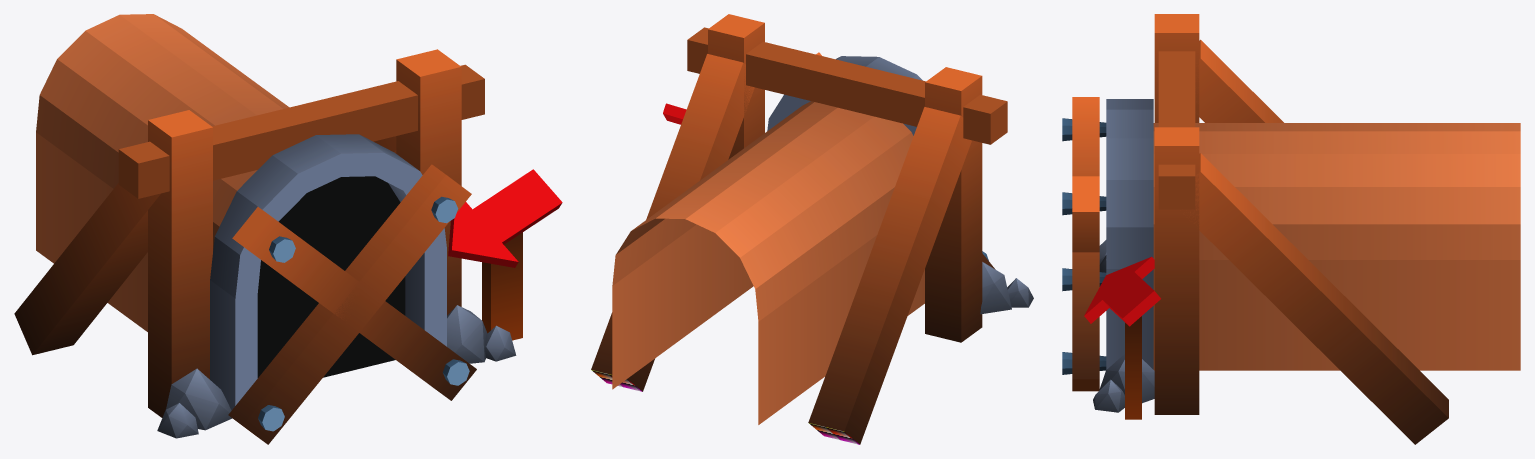
Rendered from Red_2ClosedEntry.fbx.
The picture shows the model from 3 angles, left to right: view 1: azimuth 30°, elevation 25°; view 2: azimuth 150°, elevation 25°; view 3: azimuth 270°, elevation 25°; orthographic projection. The views are drawn at different scales.
Visible parts, largest first — view 1: tunel.013, tunel.014; view 2: tunel.013; view 3: tunel.013, tunel.014.
Boxes of the visible parts, x1,y1,x2,y2 form: tunel.013: (14,14,522,444); tunel.014: (448,169,562,267); tunel.013: (591,14,1033,444); tunel.013: (1062,14,1520,444); tunel.014: (1084,256,1160,326).
Bounding box in the file's own units: 624 × 468 × 650.
